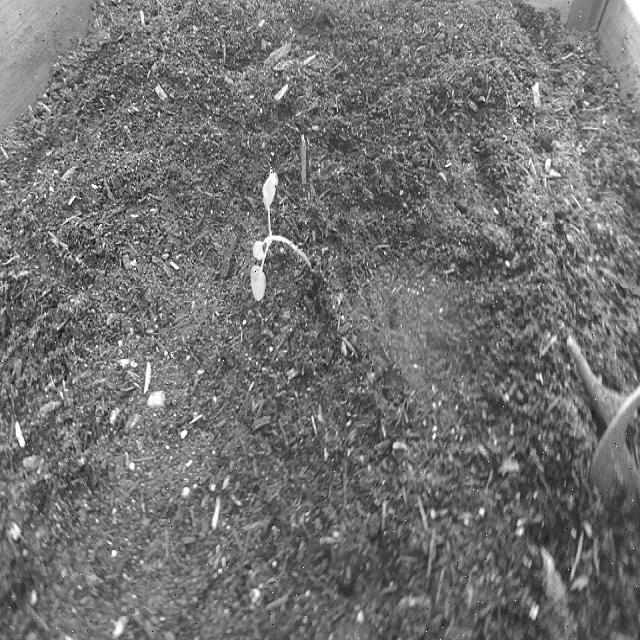Healthy: (244, 155, 327, 316)
